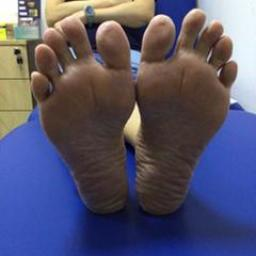Plantar View -Both Feet-: (21, 5, 250, 240)
